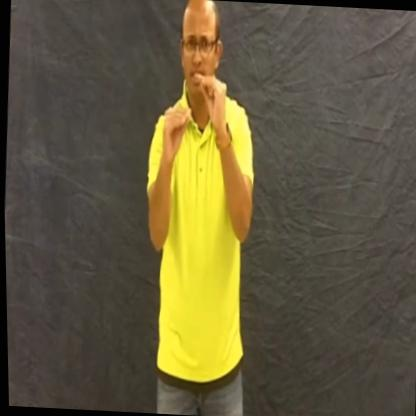Fix: (152, 51, 233, 159)
